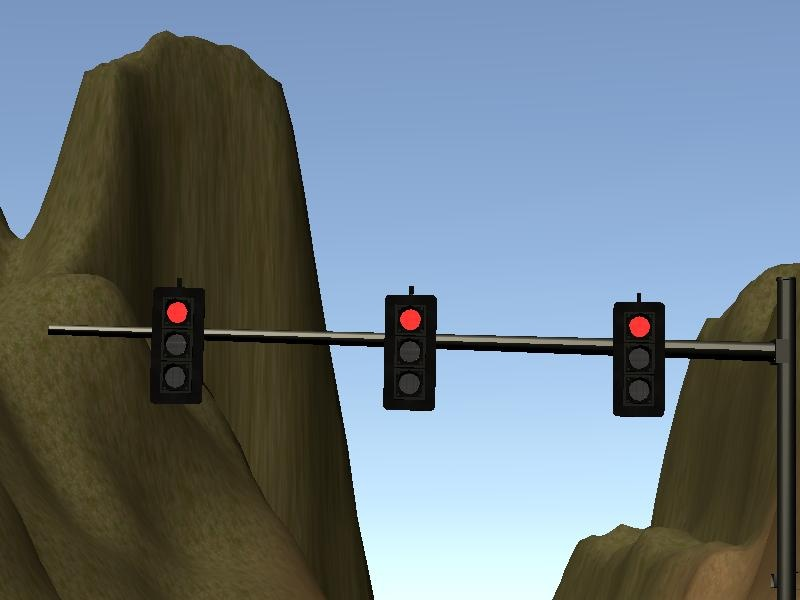red: (152, 287, 203, 403), (384, 295, 435, 411), (613, 302, 664, 418)
